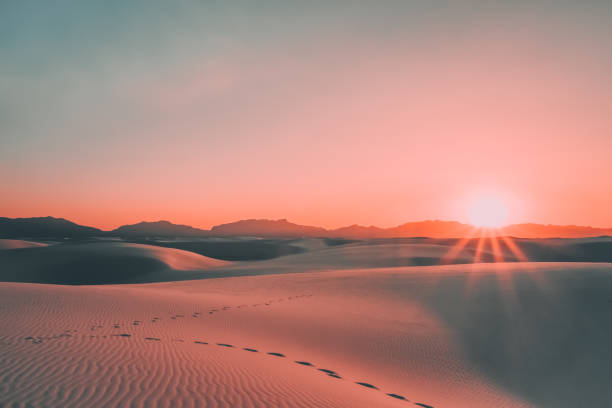human_foot_print: (208, 294, 312, 314), (24, 330, 75, 343), (108, 330, 163, 342)
